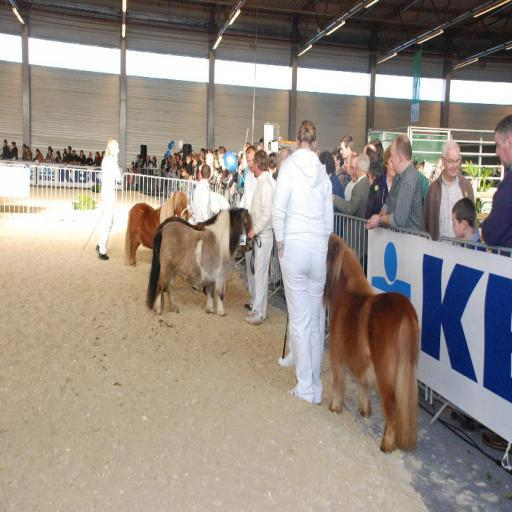horse: (320, 231, 418, 455), (142, 208, 249, 318), (192, 203, 254, 297), (122, 185, 191, 267)
